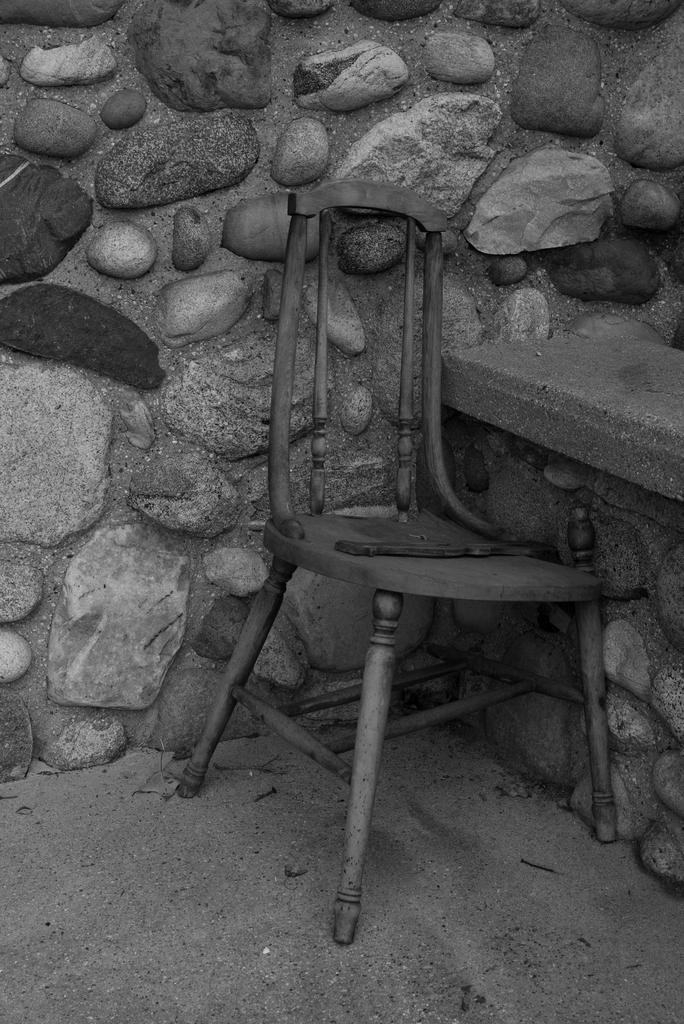Chair: (148, 205, 632, 900)
